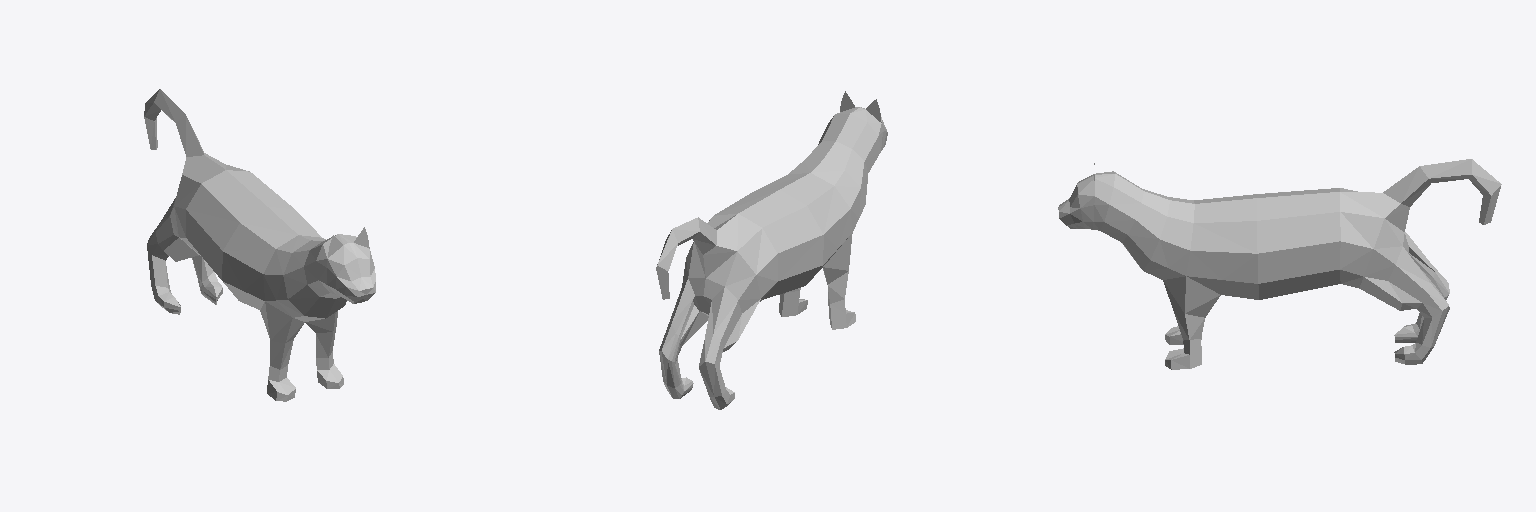
File: cat.obj
3 renders of one model, left to right at view 1: azimuth 30°, elevation 25°; view 2: azimuth 150°, elevation 25°; view 3: azimuth 270°, elevation 25°, orthographic.
Parts seen in each view (by area): view 1: Cylinder; view 2: Cylinder; view 3: Cylinder.
Boxes of the visible parts, box(x1,y1,x2,y2) form: Cylinder: box(144, 89, 375, 401); Cylinder: box(656, 91, 887, 409); Cylinder: box(1058, 159, 1501, 369).
Bounding box in the file's own units: 2.13 × 4.44 × 9.18.